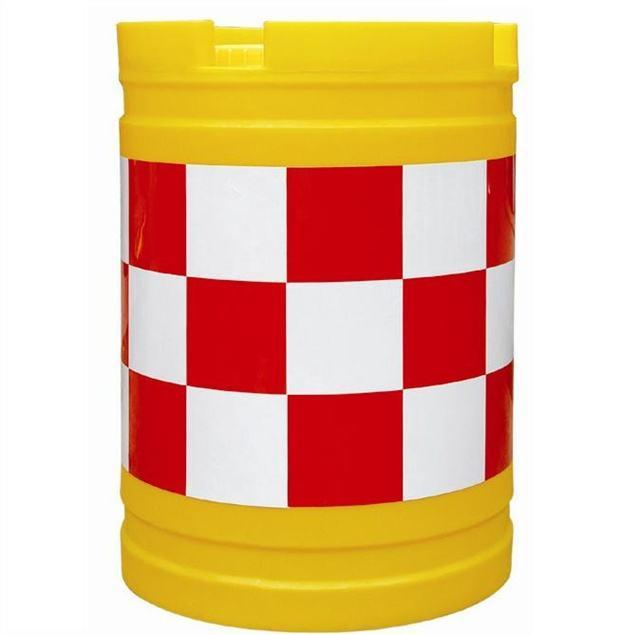sign: (99, 7, 543, 635)
